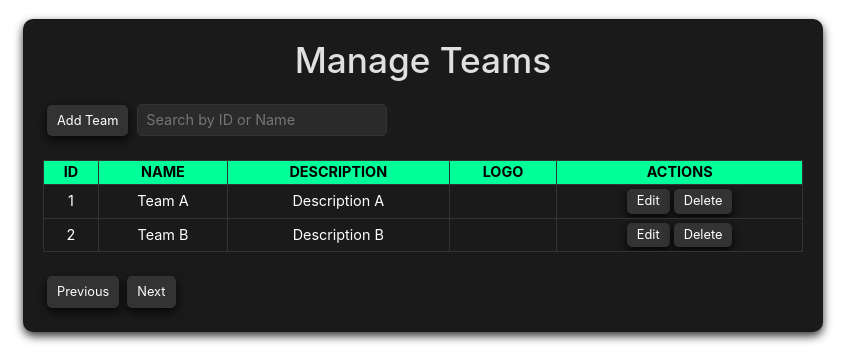
Test case: TeamsAdmin Component › filters teams based on search input
Simulate typing in the search bar
Type "Team A" into the field with placeholder "Search by ID or Name" at (262, 120), box [137,104,387,136]
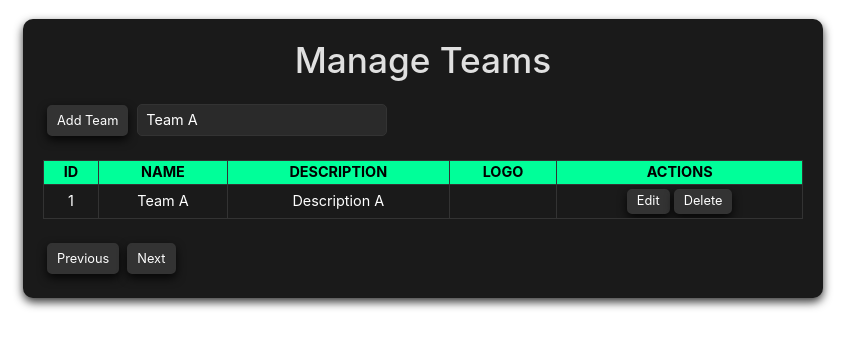
Expected: the text "Team A" is shown, [98,184,227,218]
Now the text "Team B" is gone
